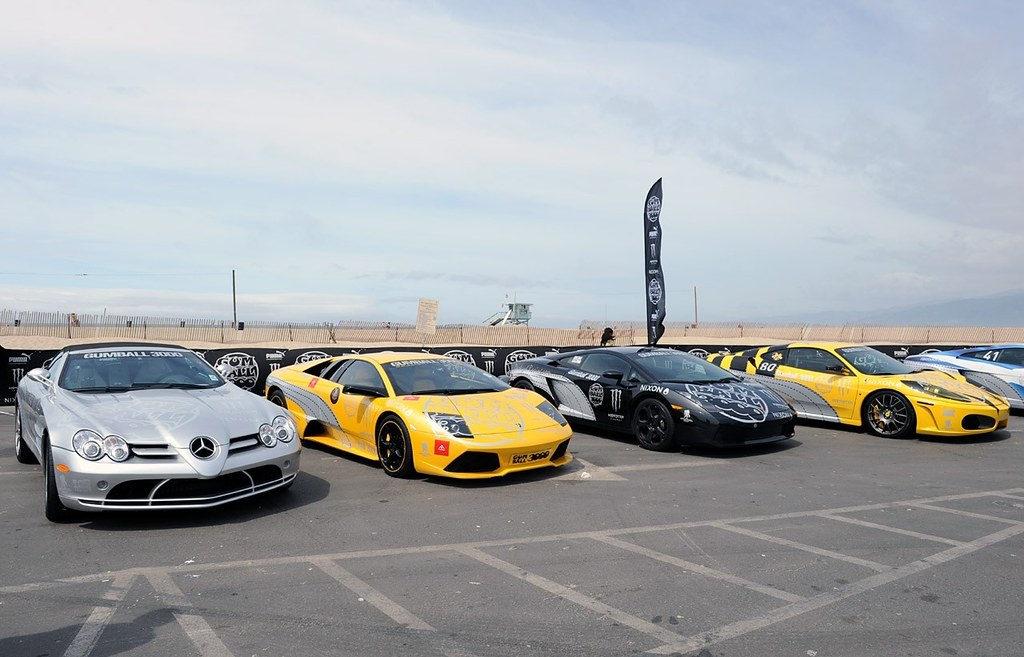car: (14, 335, 301, 522), (269, 345, 571, 489), (502, 342, 798, 450), (709, 333, 1009, 438)
